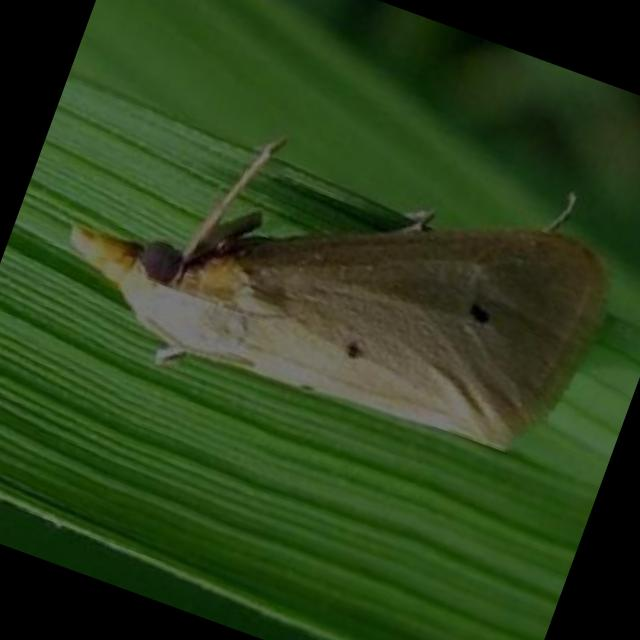stem-borer: (33, 27, 640, 508)
